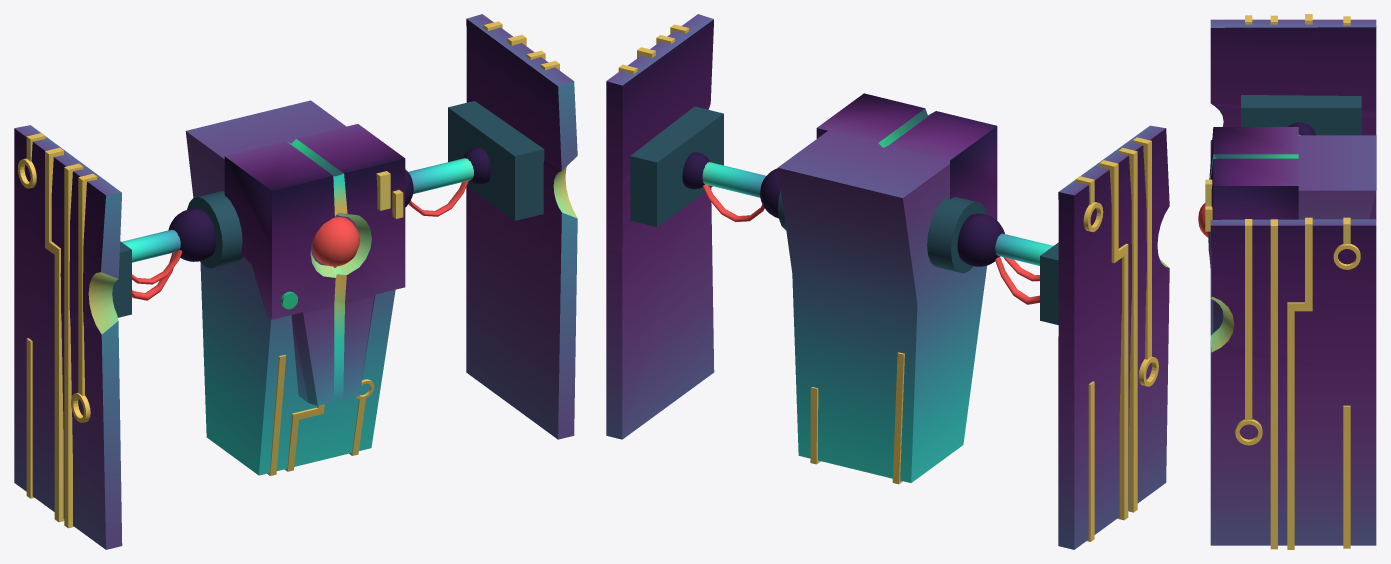
Rendered from Tank.fbx.
The picture shows the model from 3 angles, left to right: view 1: azimuth 30°, elevation 25°; view 2: azimuth 150°, elevation 25°; view 3: azimuth 270°, elevation 25°; orthographic projection. The views are drawn at different scales.
Visible parts, largest first — view 1: pTorus3 (×2), pCylinder8, pCube2 (×2), pCube10, pCube9, pCylinder2 (×2), pSphere1, CoudeD1, pCube8, pCube11, pCube4, pSphere4 (+1 smaller); view 2: pCylinder8, pTorus3 (×2), pCube2 (×2), pCube10, pCube9, pCylinder2 (×2), CoudeD1, pCube8, pCube11, pCube4, CoudeD, pSphere4; view 3: pTorus3 (×2), pCylinder8, pCube2, pCube10, pCube9, pCube8, pCube11, pCylinder6, pCylinder7.
Boxes of the visible parts, x1,y1,x2,y2 form: pTorus3 (×2): (14, 14, 577, 549); pCylinder8: (185, 100, 405, 475); pCube2 (×2): (112, 101, 544, 317); pCube10: (45, 147, 64, 522); pCube9: (64, 163, 83, 528); pCylinder2 (×2): (122, 158, 473, 262); pSphere1: (312, 217, 359, 266); CoudeD1: (168, 208, 216, 261); pCube8: (78, 173, 97, 395); pCube11: (26, 338, 34, 498); pCube4: (267, 355, 286, 475); pSphere4: (462, 147, 491, 184); pCylinder8: (777, 93, 997, 482); pTorus3 (×2): (606, 14, 1169, 549); pCube2 (×2): (630, 106, 1058, 324); pCube10: (1099, 160, 1128, 520); pCube9: (1118, 148, 1137, 512); pCylinder2 (×2): (702, 162, 1052, 265); CoudeD1: (957, 213, 1004, 266); pCube8: (1133, 137, 1151, 359); pCube11: (1087, 381, 1094, 541); pCube4: (892, 352, 904, 484); CoudeD: (760, 168, 780, 218); pSphere4: (682, 152, 710, 189); pTorus3 (×2): (1210, 19, 1376, 545); pCylinder8: (1208, 127, 1376, 333); pCube2: (1241, 95, 1361, 135); pCube10: (1287, 217, 1312, 549); pCube9: (1270, 219, 1277, 549); pCube8: (1245, 219, 1252, 420); pCube11: (1343, 405, 1350, 548); pCylinder6: (1235, 419, 1262, 445); pCylinder7: (1333, 244, 1360, 269).
Bounding box in the file's own units: 3.84 × 2.76 × 1.37.
